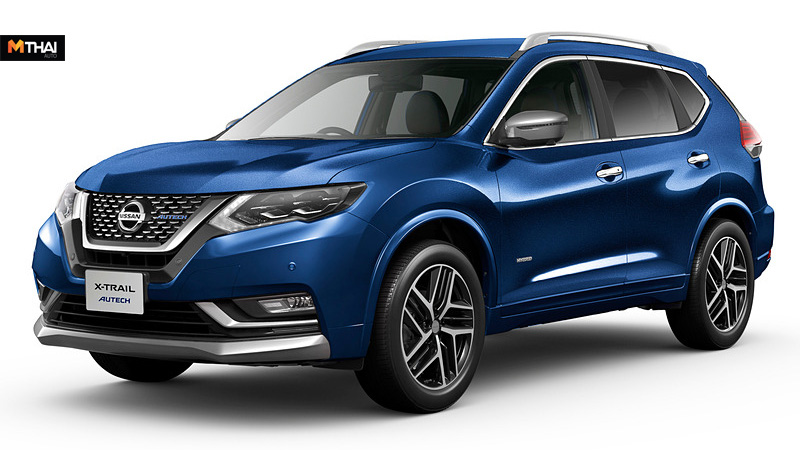pickup: (31, 35, 775, 414)
